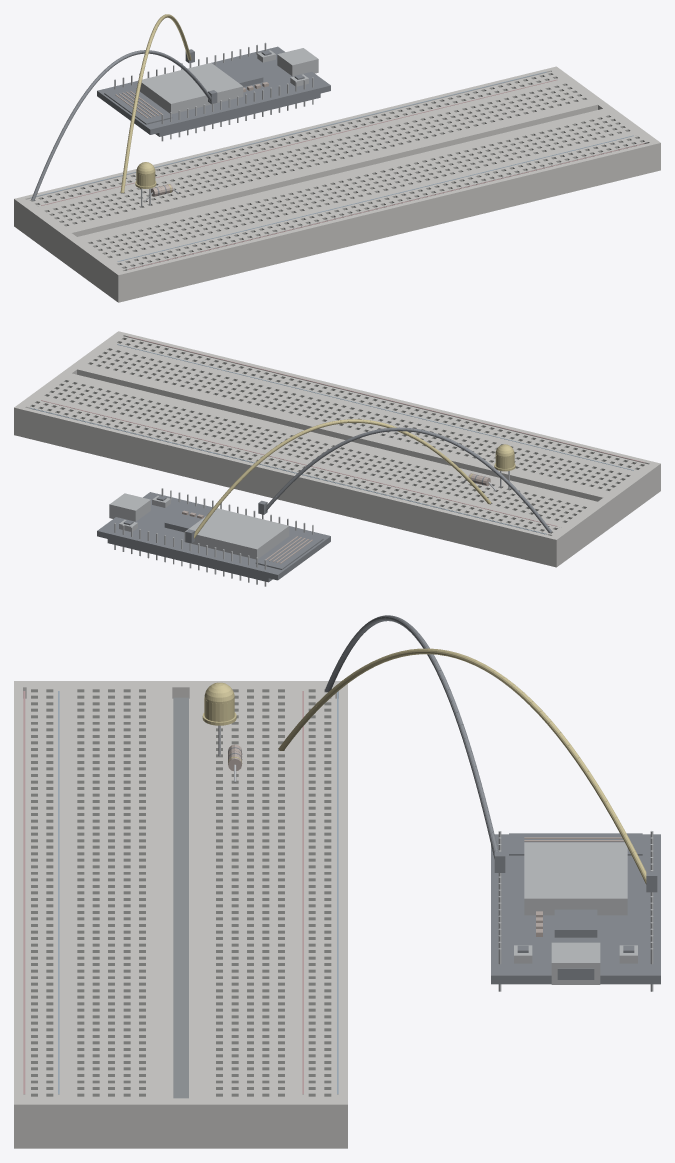
The model's file is step-4.glb.
3 renders of one model, top to bottom at view 1: azimuth 30°, elevation 25°; view 2: azimuth 150°, elevation 25°; view 3: azimuth 270°, elevation 25°, orthographic. The views are drawn at different scales.
Parts seen in each view (by area): view 1: bb1__mesh, uno__mesh, w_gnd_rail__mesh, w_led_sig__mesh, led_yellow__mesh; view 2: bb1__mesh, uno__mesh, w_led_sig__mesh, w_gnd_rail__mesh, led_yellow__mesh; view 3: bb1__mesh, uno__mesh, w_led_sig__mesh, w_gnd_rail__mesh, led_yellow__mesh.
Part boxes in pixels (<box>): bb1__mesh: <box>14,66,660,302</box>; uno__mesh: <box>97,42,330,141</box>; w_gnd_rail__mesh: <box>31,50,217,200</box>; w_led_sig__mesh: <box>120,14,194,192</box>; led_yellow__mesh: <box>135,162,156,207</box>; bb1__mesh: <box>14,331,660,567</box>; uno__mesh: <box>97,488,330,586</box>; w_led_sig__mesh: <box>185,419,491,543</box>; w_gnd_rail__mesh: <box>258,427,551,532</box>; led_yellow__mesh: <box>494,444,515,489</box>; bb1__mesh: <box>14,681,347,1148</box>; uno__mesh: <box>491,831,660,991</box>; w_led_sig__mesh: <box>278,648,657,892</box>; w_gnd_rail__mesh: <box>325,615,505,872</box>; led_yellow__mesh: <box>202,682,236,756</box>.
Size of the model in its own units: 0.165 by 0.0379 by 0.1065.
